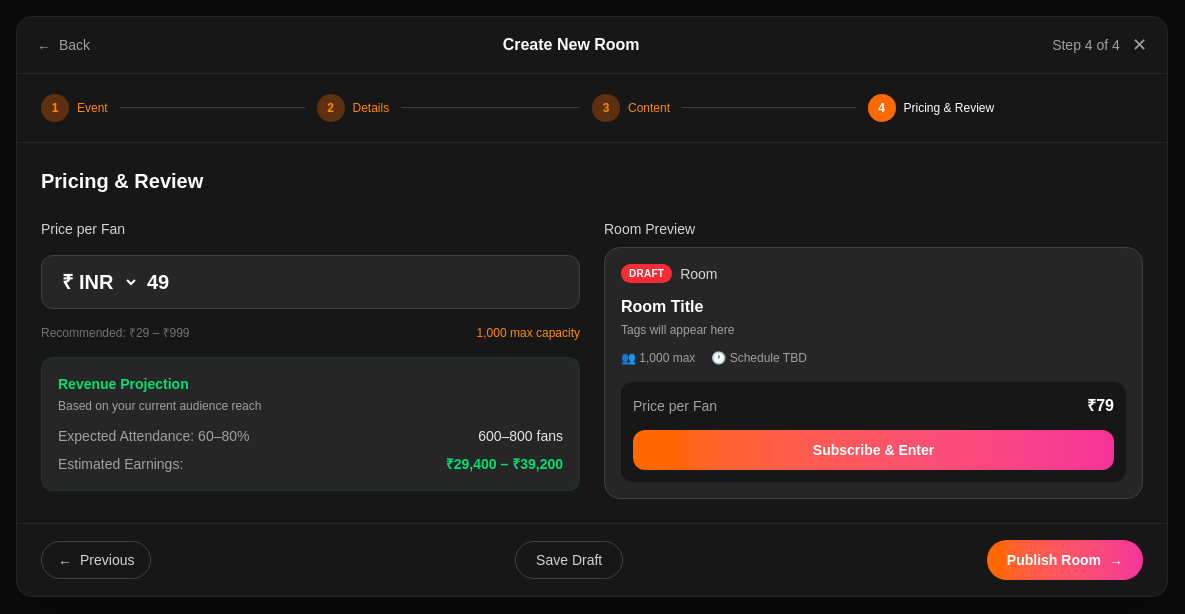
Scenario: CreateRoomStep4 › clamps price to min value when user enters below range
This screenshot has width=1185, height=614.
Replace the text in the number field with "1" at coordinates (355, 282), box [147, 268, 563, 296]
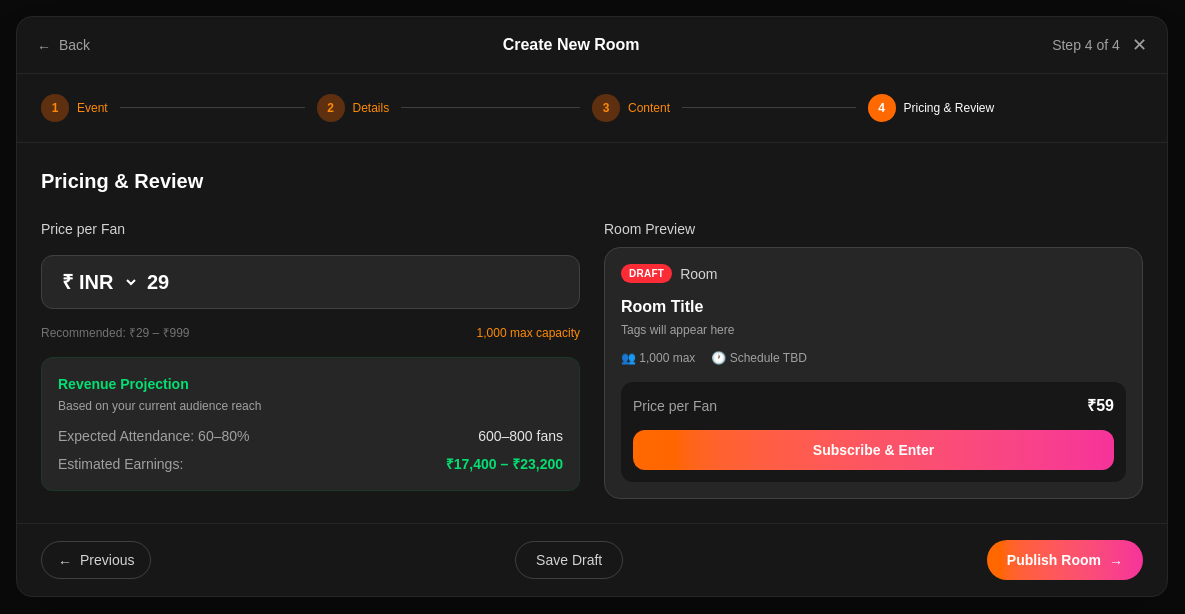
Expected: the number field holds "29", [147, 268, 563, 296]
Expected: the text "₹17,400 – ₹23,200" is shown, [446, 454, 563, 474]
